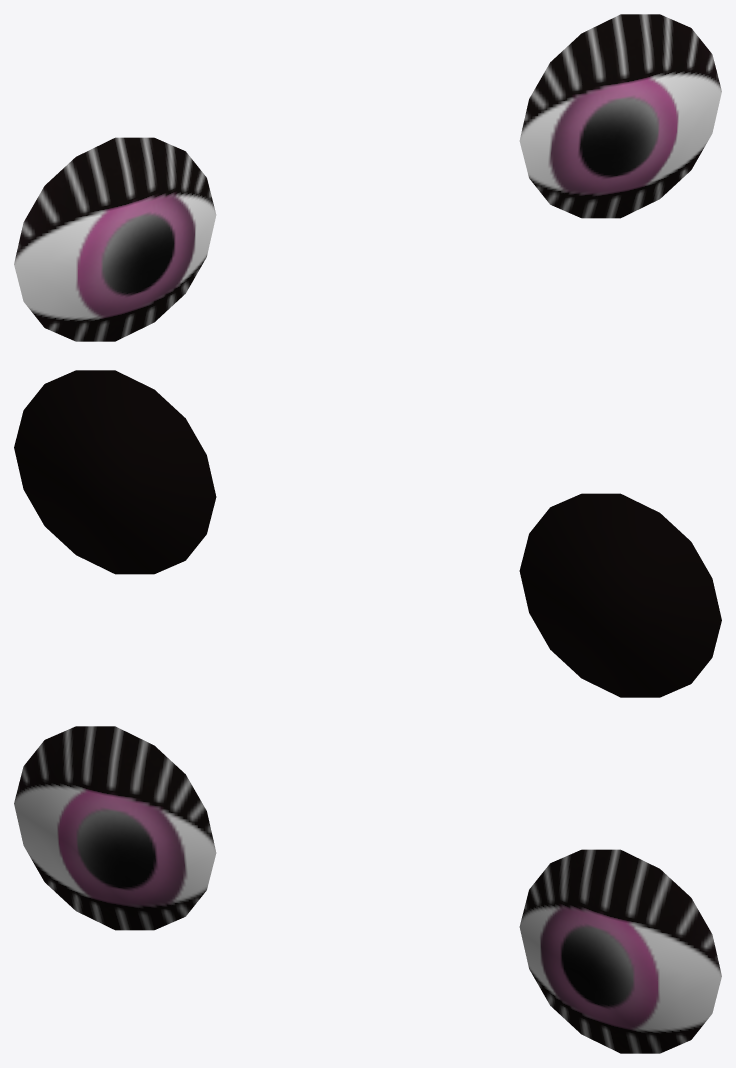
The model's file is mod_skull_c_return.fbx.
3 views of the same model, one above another, from view 1: azimuth 30°, elevation 25°; view 2: azimuth 150°, elevation 25°; view 3: azimuth 330°, elevation 25° (orthographic).
Visible parts, largest first — view 1: pPlane1; view 2: pPlane1; view 3: pPlane1.
Part boxes in pixels (<box>): pPlane1: <box>14,14,721,341</box>; pPlane1: <box>14,370,721,697</box>; pPlane1: <box>14,726,721,1053</box>.
Size of the model in its own units: 1.12 by 0.3089 by 0.0835.
